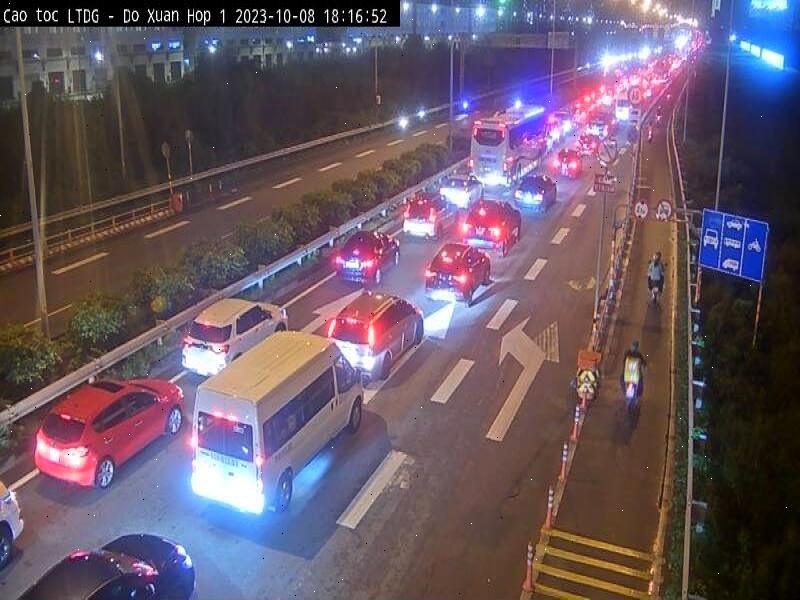bus: (465, 102, 556, 186)
car: (183, 330, 375, 523), (3, 507, 217, 596), (27, 372, 183, 491), (329, 280, 420, 385), (166, 296, 285, 363), (321, 213, 400, 292), (455, 198, 521, 268), (436, 235, 486, 324), (401, 187, 457, 240), (0, 471, 28, 572), (432, 167, 480, 205), (523, 175, 556, 216)
motorcycle: (616, 372, 645, 404), (643, 273, 661, 310)
